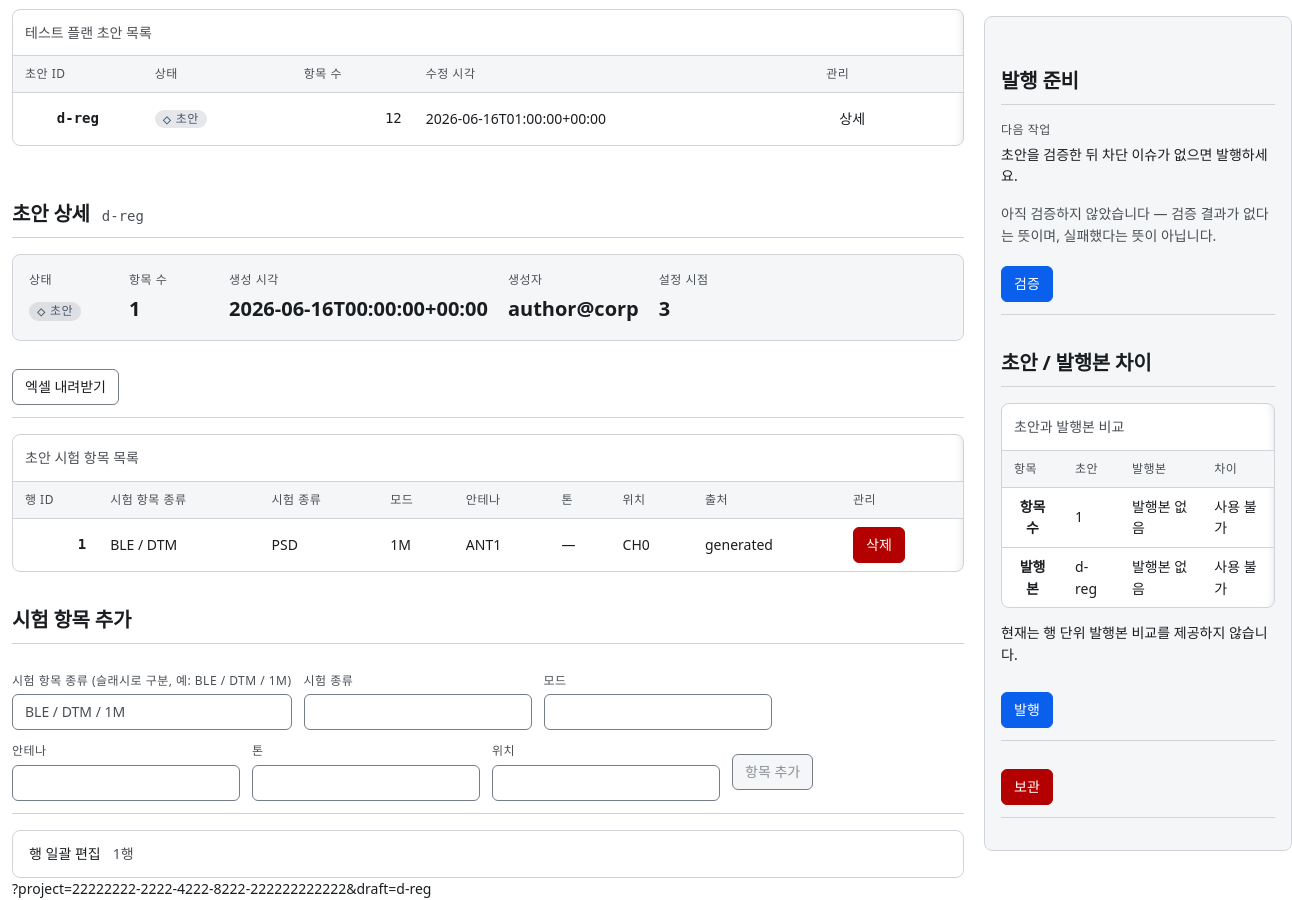
Test: TestPlansRoute › invalidates the project publications list on publish success (A1 producer path)
The width and height of the screenshot is (1292, 900).
(page scrolled)
Click the button with test id "test-plans-publish": (1027, 710) [1001,692,1053,728]
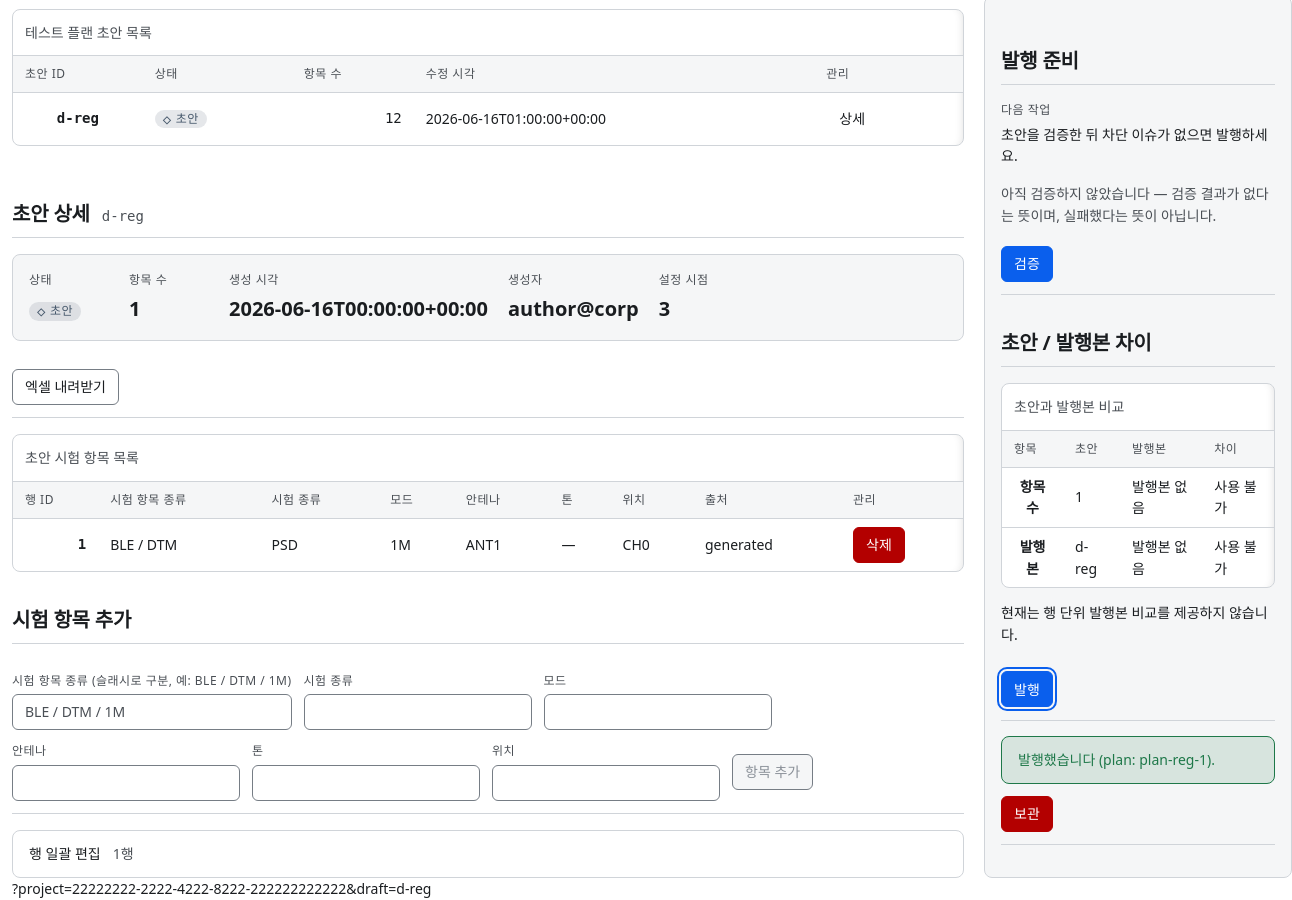
Now the message "발행했습니다 (plan: plan-reg-1)." is shown, box [1001,736,1275,784]
